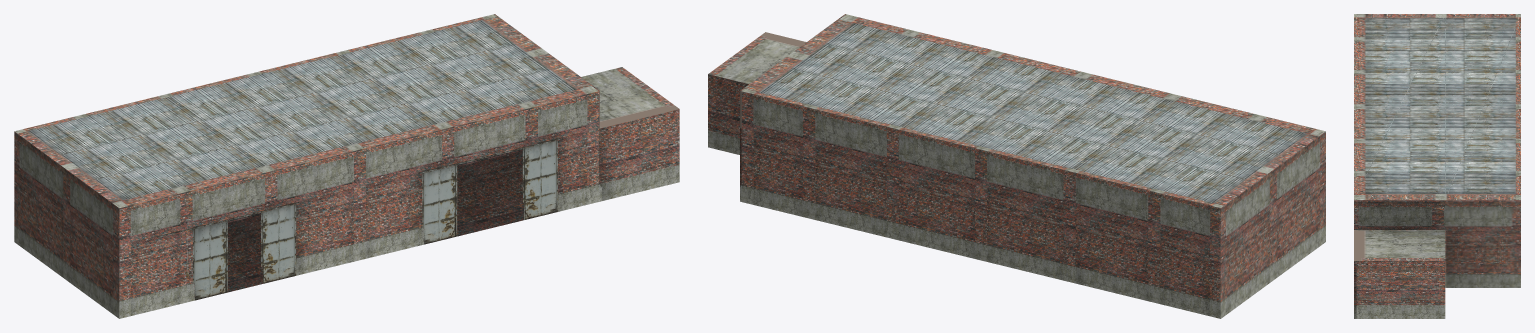
Rendered from building_7_lod2.FBX.
3 views of the same model, side by side, from view 1: azimuth 30°, elevation 25°; view 2: azimuth 150°, elevation 25°; view 3: azimuth 270°, elevation 25° (orthographic). The views are drawn at different scales.
Visible parts, largest first — view 1: Mesh Object; view 2: Mesh Object; view 3: Mesh Object.
Part boxes in pixels (left/top/right/bottom): Mesh Object: left=14, top=14, right=679, bottom=318; Mesh Object: left=708, top=14, right=1325, bottom=318; Mesh Object: left=1354, top=14, right=1520, bottom=318.
Size of the model in its own units: 197 by 37.2 by 64.
